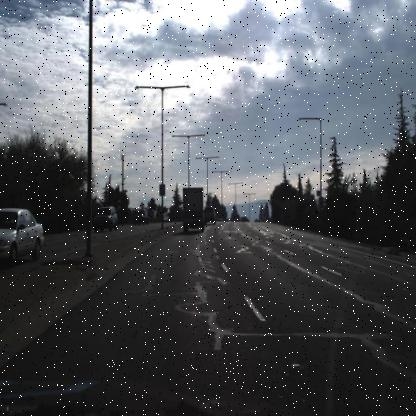car: (1, 207, 44, 266), (94, 204, 117, 231), (133, 208, 148, 228), (203, 204, 216, 226), (233, 213, 241, 224)
truck: (182, 186, 204, 235)
